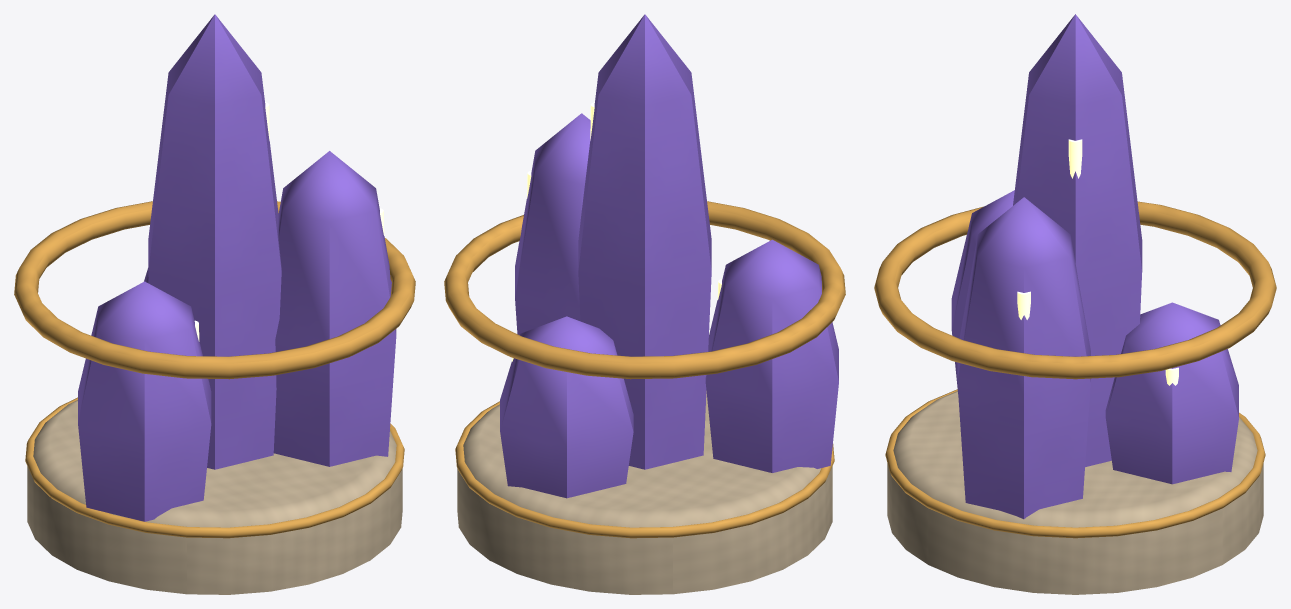
The model's file is crystal_canyon.glb.
3 renders of one model, left to right at view 1: azimuth 30°, elevation 25°; view 2: azimuth 150°, elevation 25°; view 3: azimuth 270°, elevation 25°, orthographic.
Parts seen in each view (by area): view 1: crystal_canyon_lod0; view 2: crystal_canyon_lod0; view 3: crystal_canyon_lod0.
Boxes of the visible parts, <box> form: crystal_canyon_lod0: <box>14,14,415,594</box>; crystal_canyon_lod0: <box>444,14,845,594</box>; crystal_canyon_lod0: <box>874,14,1276,594</box>.
Size of what is drawn, in the model's own units: 7.06 by 9.7 by 7.06.
Materials: 4 (4 with a texture image).
